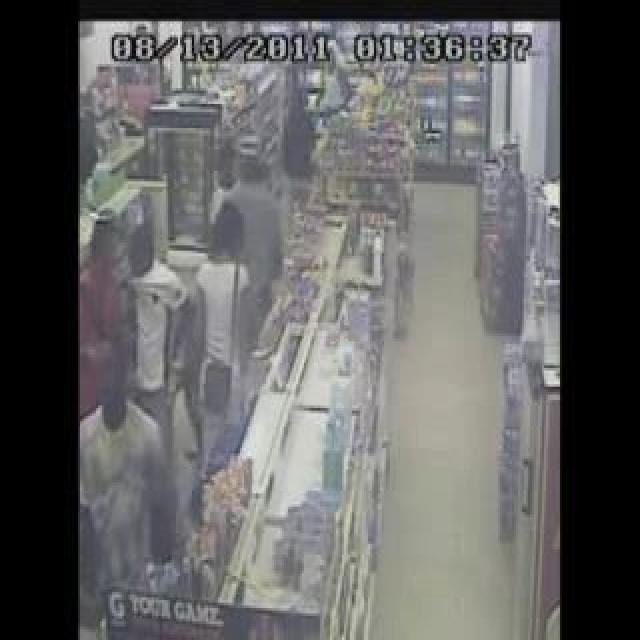thief: (77, 218, 252, 473), (237, 130, 288, 222), (296, 63, 333, 156)
